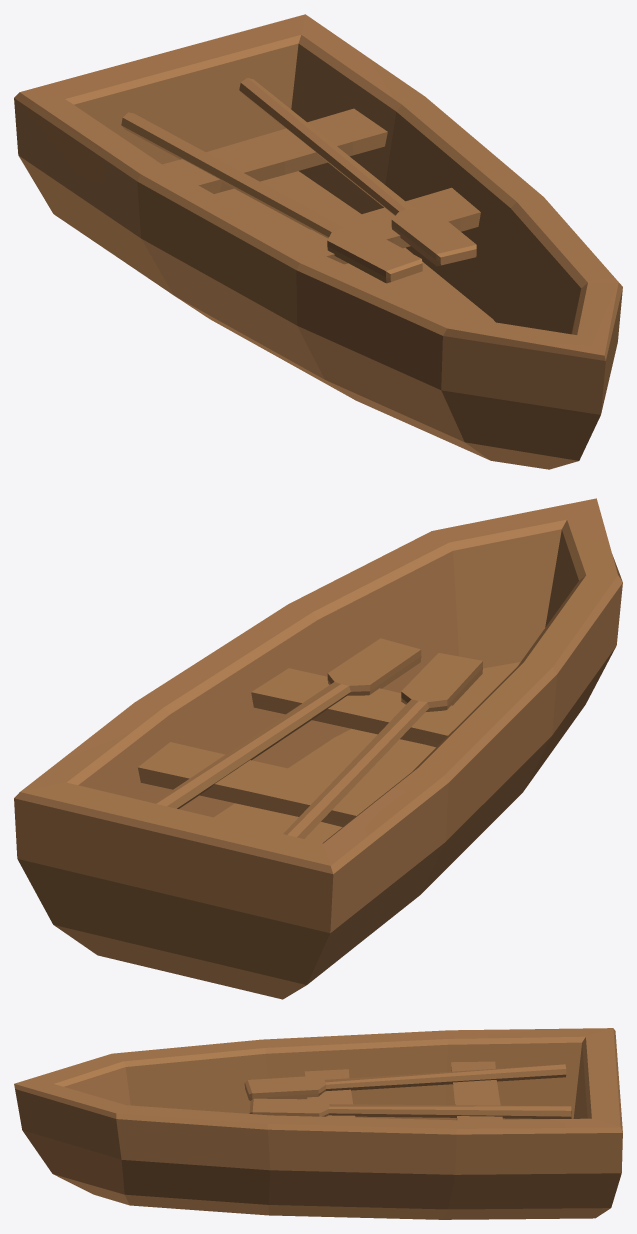
The model's file is rowboat.fbx.
3 renders of one model, top to bottom at view 1: azimuth 30°, elevation 25°; view 2: azimuth 150°, elevation 25°; view 3: azimuth 270°, elevation 25°, orthographic. The views are drawn at different scales.
Visible parts, largest first — view 1: Boat_withpaddles_Cube.109; view 2: Boat_withpaddles_Cube.109; view 3: Boat_withpaddles_Cube.109.
Part boxes in pixels (x1,y1,x2,y2): Boat_withpaddles_Cube.109: (14,14,622,469); Boat_withpaddles_Cube.109: (14,498,622,999); Boat_withpaddles_Cube.109: (14,1028,622,1219).
Bounding box in the file's own units: 149 × 73.52 × 361.
